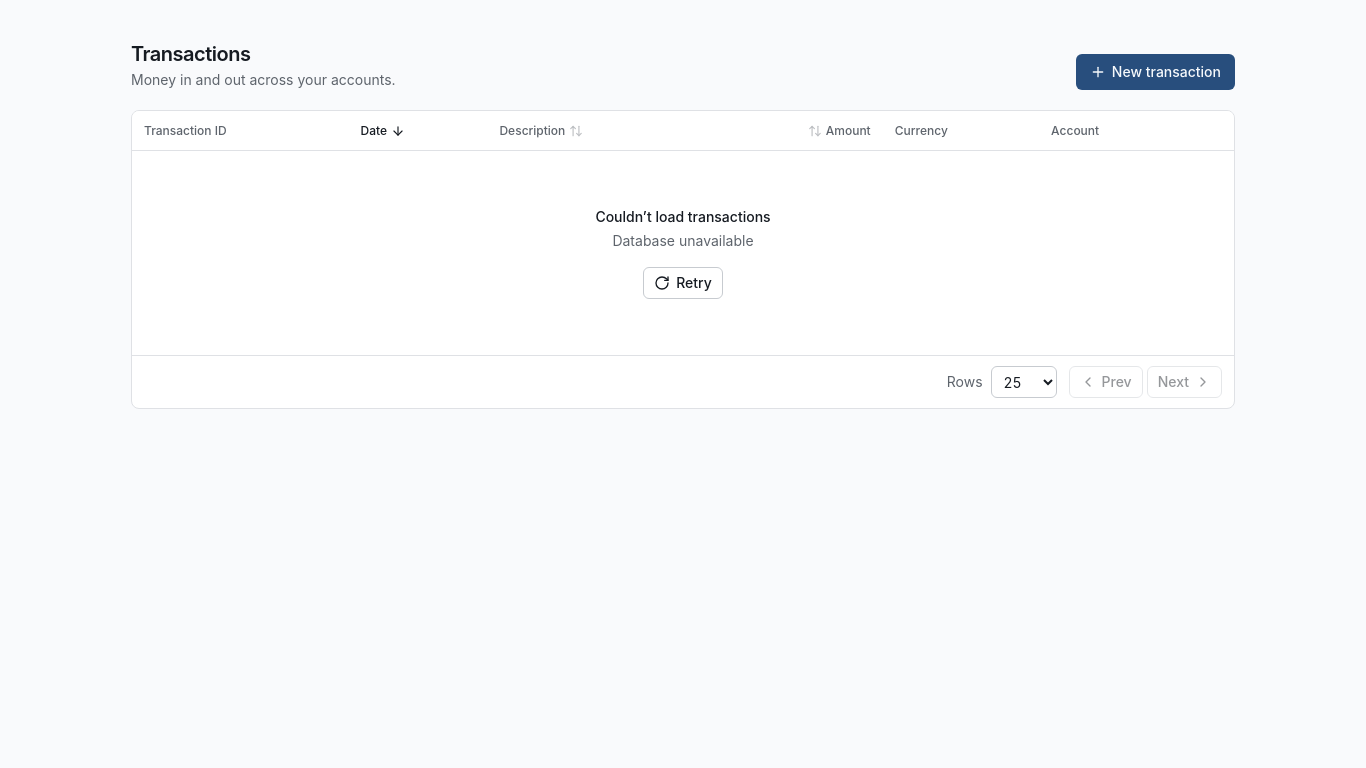
Test: TransactionsTable › shows an error state with retry
This screenshot has width=1366, height=768.
Expected: the text "Database unavailable" is shown, [612,232,754,249]
Click the button "Retry" at (683, 283), box [643,267,723,299]
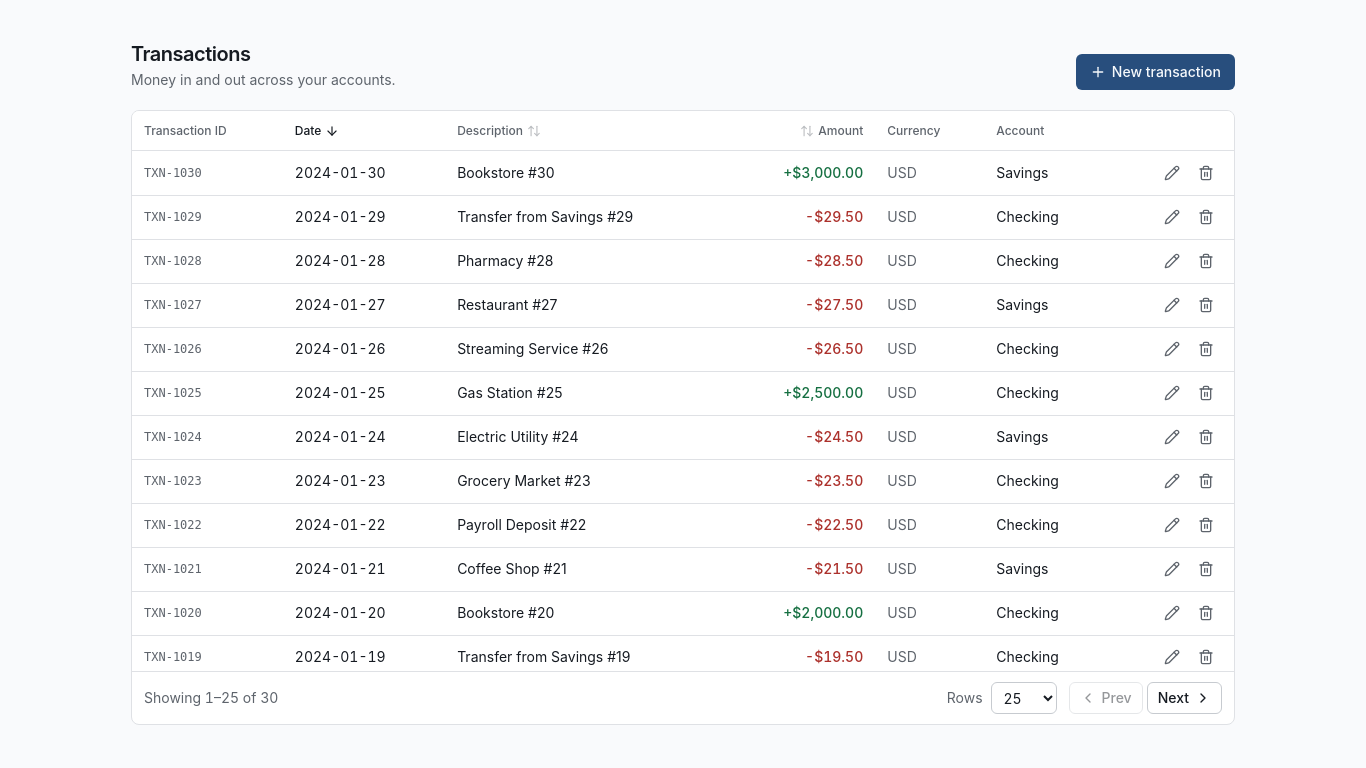
Now the text "TXN-1030" is shown, box [132,151,283,195]
